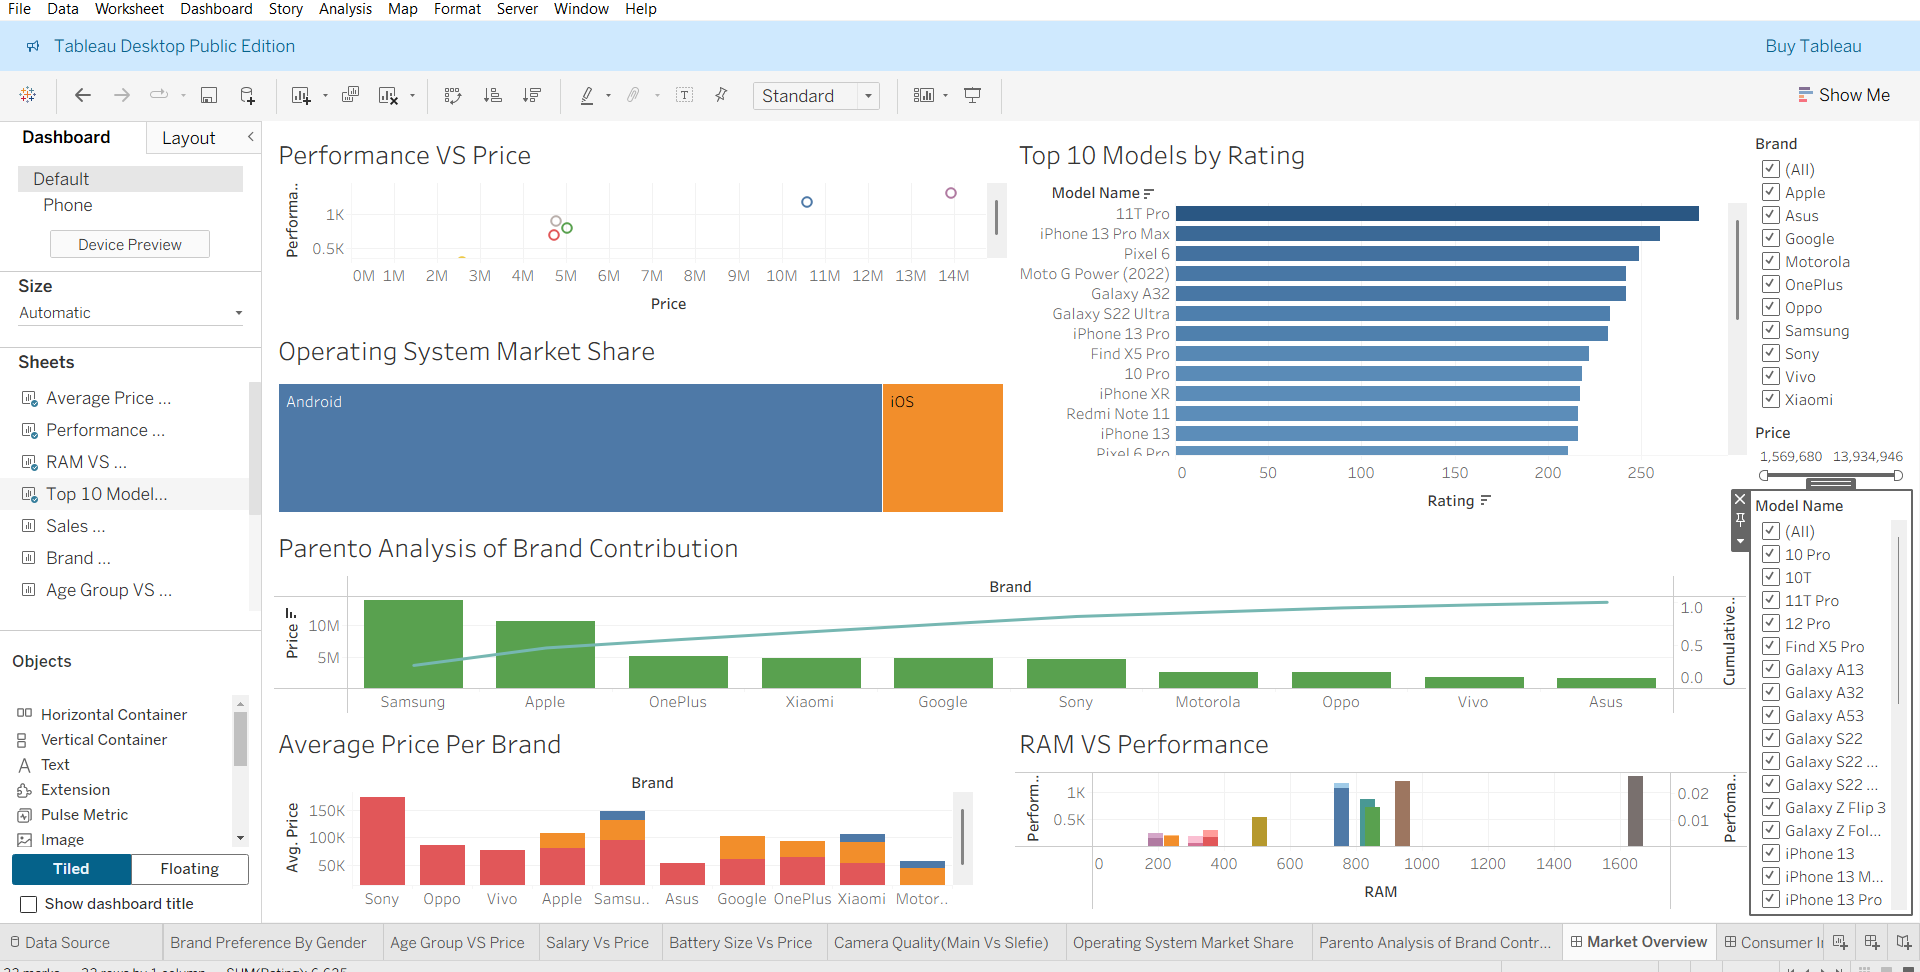

The page's visual inventory and layout, read from the dashboard file:
{"tool":"tableau","page":{"name":"Market Overview","canvas":[1000,1000],"units":"permille","ordinal":1},"visuals":[{"type":"worksheet","title":"Performance VS Price","mark":"Automatic","rows":["performance"],"cols":["price(INR)"],"box":[4.9,10,446,245]},{"type":"worksheet","title":"Top 10 Models by Rating","mark":"Automatic","rows":["model"],"cols":["rating"],"box":[450.9,10,446,490]},{"type":"filter","title":"Parento Analysis of Brand Contribution","param":"[federated.121tscn1ojdv8f154y8sq1yuohk4].[none:brand:nk]","box":[896.9,10,98.2,360.8]},{"type":"worksheet","title":"Operating System Market Share","mark":"Square","box":[4.9,255,446,245]},{"type":"filter","title":"Parento Analysis of Brand Contribution","param":"[federated.121tscn1ojdv8f154y8sq1yuohk4].[sum:price(INR):qk]","box":[896.9,370.8,98.2,91.1]},{"type":"filter","title":"Top 10 Models by Rating","param":"[federated.121tscn1ojdv8f154y8sq1yuohk4].[none:model:nk]","box":[896.9,461.9,98.2,528.1]},{"type":"worksheet","title":"Parento Analysis of Brand Contribution","mark":"Automatic","rows":["price(INR)","Calculation_197032510364553216"],"cols":["brand"],"box":[4.9,500,892,245]},{"type":"worksheet","title":"Average Price Per Brand","mark":"Automatic","rows":["price(INR)"],"cols":["brand"],"box":[4.9,745,446,245]},{"type":"worksheet","title":"RAM VS Performance","mark":"Bar","rows":["performance","Calculation_898186677037453312"],"cols":["RAM"],"box":[450.9,745,446,245]}]}

Visuals, with their boxes on the dashboard's canvas, which has no fixed pixel size, in thousandths of its width and height (x1, y1, x2, y2). These are canvas units, not pixel positions in the 1920x972 screenshot, which may show the page scaled, cropped or inside an application window:
"Performance VS Price" worksheet: select_region(5, 10, 451, 255)
"Top 10 Models by Rating" worksheet: select_region(451, 10, 897, 500)
"Parento Analysis of Brand Contribution" filter: select_region(897, 10, 995, 371)
"Operating System Market Share" worksheet (Square marks): select_region(5, 255, 451, 500)
"Parento Analysis of Brand Contribution" filter: select_region(897, 371, 995, 462)
"Top 10 Models by Rating" filter: select_region(897, 462, 995, 990)
"Parento Analysis of Brand Contribution" worksheet: select_region(5, 500, 897, 745)
"Average Price Per Brand" worksheet: select_region(5, 745, 451, 990)
"RAM VS Performance" worksheet (Bar marks): select_region(451, 745, 897, 990)
